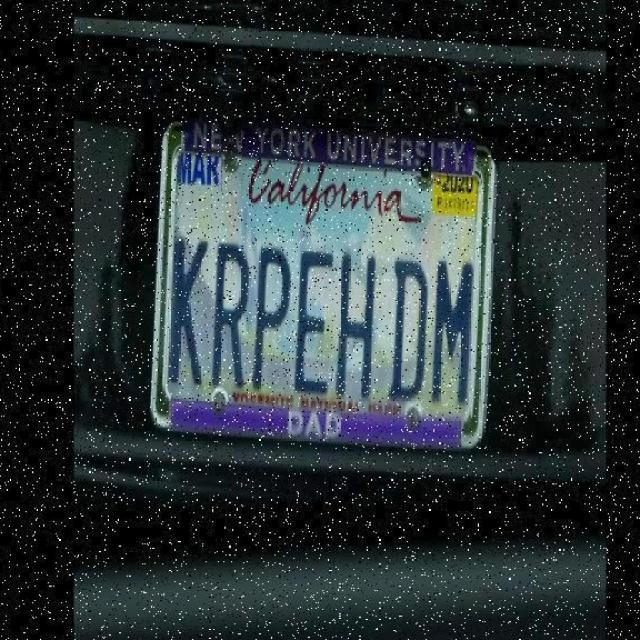license-plate: (138, 103, 514, 475)
